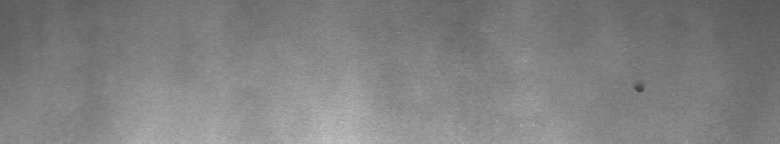fi: (632, 76, 648, 100)
